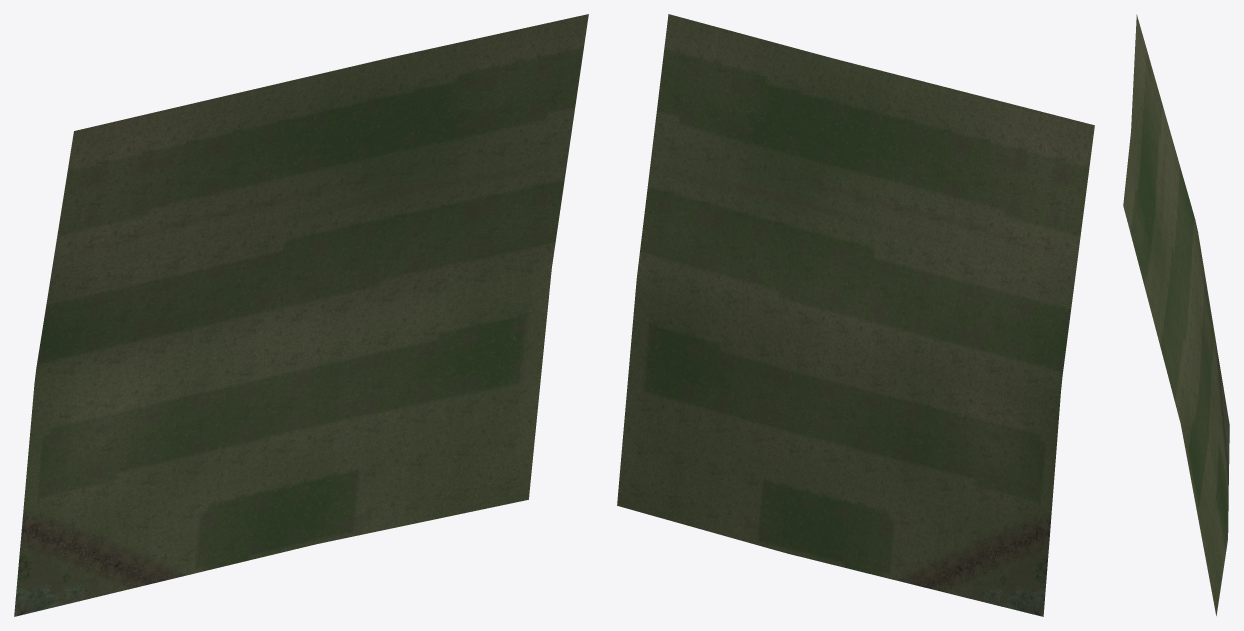
File: terrain_core_02_01.obj
The picture shows the model from 3 angles, left to right: view 1: azimuth 30°, elevation 25°; view 2: azimuth 150°, elevation 25°; view 3: azimuth 270°, elevation 25°; orthographic projection. The views are drawn at different scales.
Parts seen in each view (by area): view 1: terrain_core_02_01; view 2: terrain_core_02_01; view 3: terrain_core_02_01.
Part boxes in pixels (bbox=[...]): terrain_core_02_01: bbox=[14, 14, 588, 616]; terrain_core_02_01: bbox=[617, 14, 1094, 616]; terrain_core_02_01: bbox=[1123, 14, 1229, 615].
Size of the model in its own units: 32 by 32 by 7.51.
Materials: 1 (1 with a texture image).
